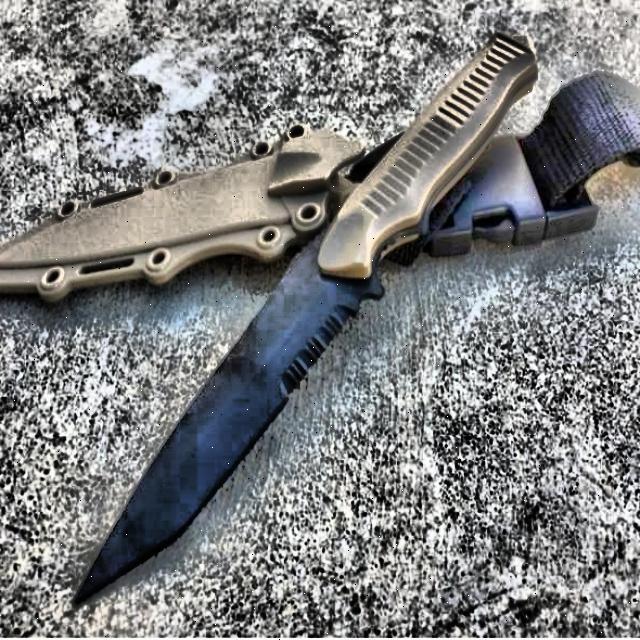knife: (76, 33, 536, 606)
